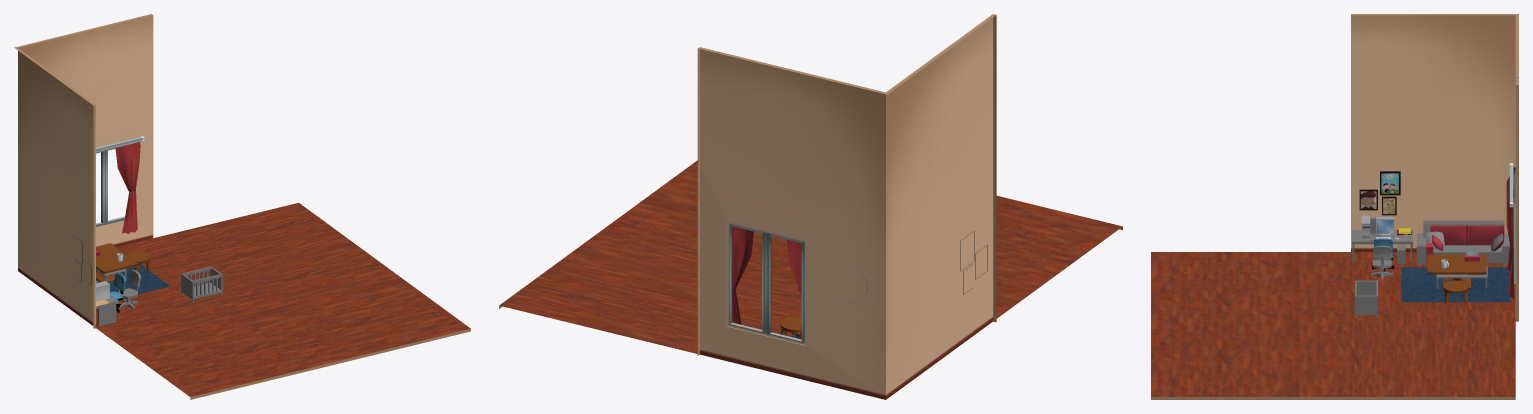
Rendered from Tx_Interior_Home_Lv1_20170726_Assign.fbx.
The picture shows the model from 3 angles, left to right: view 1: azimuth 30°, elevation 25°; view 2: azimuth 150°, elevation 25°; view 3: azimuth 270°, elevation 25°; orthographic projection. The views are drawn at different scales.
Parts seen in each view (by area): view 1: bg, window, baby_crib, Dining_table_lv1, carpet, chair_computer_lv2, big_table, computer_chair; view 2: bg, window; view 3: bg, carpet, sofa, pasted__sofa_lv1, Dining_table_lv1, photos, window, chair_computer_lv2, baby_crib, big_table, computer_chair, pasted__Dining_chair_lv1.
Part boxes in pixels (x1,y1,x2,y2): bg: [14, 14, 470, 399]; window: [96, 136, 144, 233]; baby_crib: [181, 266, 222, 302]; Dining_table_lv1: [96, 243, 138, 282]; carpet: [96, 249, 170, 294]; chair_computer_lv2: [96, 273, 125, 326]; big_table: [96, 294, 118, 326]; computer_chair: [119, 270, 140, 309]; bg: [499, 14, 1122, 399]; window: [726, 221, 805, 345]; bg: [1151, 14, 1518, 399]; carpet: [1401, 267, 1510, 302]; sofa: [1416, 220, 1509, 264]; pasted__sofa_lv1: [1426, 223, 1504, 263]; Dining_table_lv1: [1427, 252, 1486, 288]; photos: [1359, 171, 1400, 215]; window: [1506, 163, 1515, 298]; chair_computer_lv2: [1361, 215, 1412, 271]; baby_crib: [1354, 280, 1378, 318]; big_table: [1352, 230, 1413, 262]; computer_chair: [1371, 246, 1393, 280]; pasted__Dining_chair_lv1: [1443, 280, 1469, 303].
Size of the model in its own units: 18.44 by 14.05 by 19.56.
4 materials, 3 textured.
